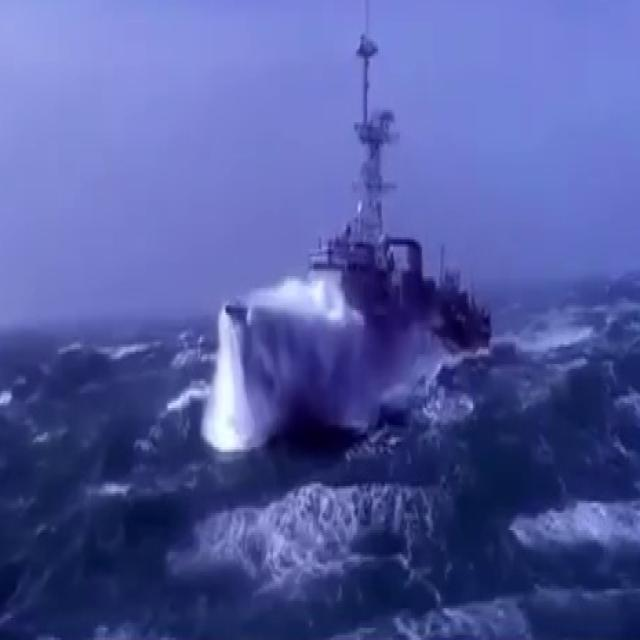houseboat: (231, 23, 503, 433)
